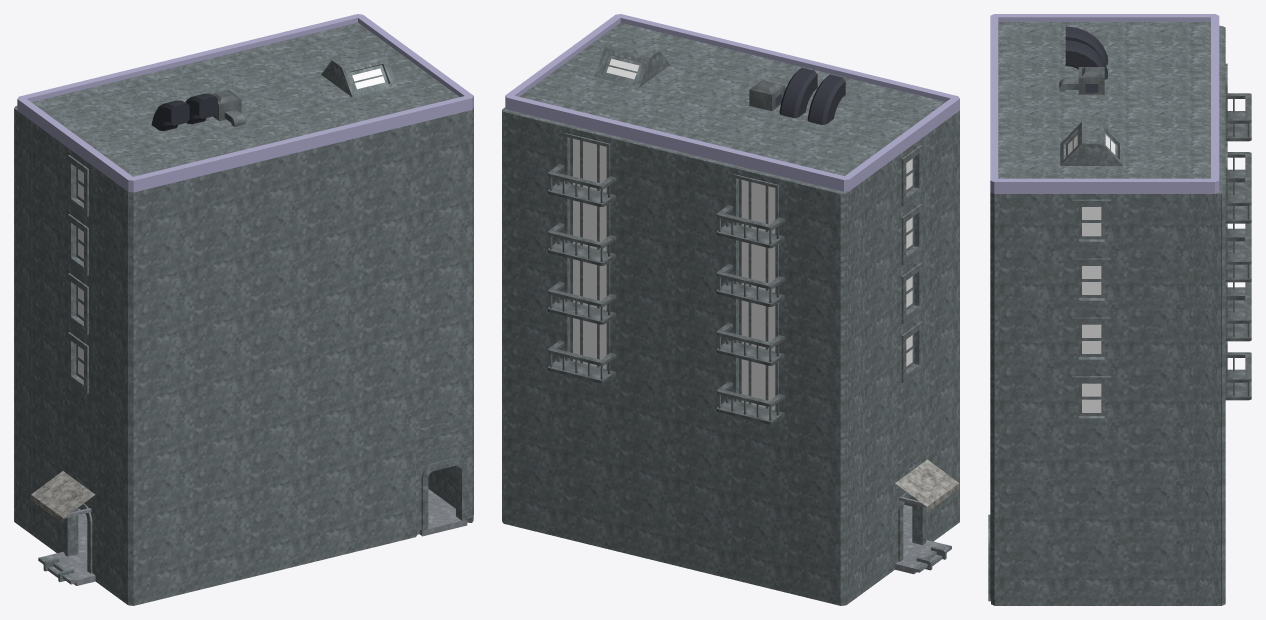
Rendered from Foyer 3.fbx.
The picture shows the model from 3 angles, left to right: view 1: azimuth 30°, elevation 25°; view 2: azimuth 150°, elevation 25°; view 3: azimuth 270°, elevation 25°; orthographic projection.
Visible parts, largest first — view 1: mergedBlocks; view 2: mergedBlocks; view 3: mergedBlocks.
Boxes of the visible parts, box(x1,y1,x2,y2) form: mergedBlocks: box(14, 14, 473, 605); mergedBlocks: box(502, 14, 959, 605); mergedBlocks: box(988, 14, 1251, 605).
Bounding box in the file's own units: 67.22 × 76.65 × 40.55.
12 materials, 8 textured.
